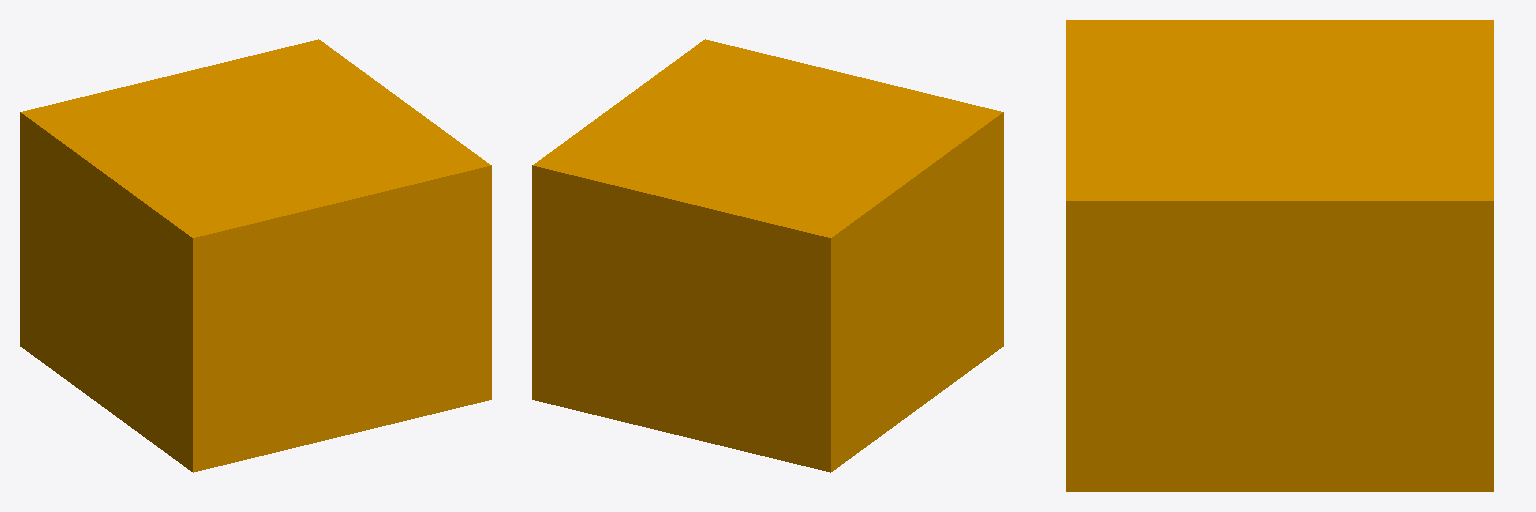
The robot description file, URDF, robot "object":
<?xml version="0.0"?>
	<robot name="object">
		<link name="object">
			<visual>
				<origin xyz="0 0 0"/>
				<geometry>
					<box size="0.4 0.4 0.3"/>
				</geometry>
			</visual>
			<inertial>
				<mass value="4.800"/>
			</inertial>
			<collision>
				<origin xyz="0 0 0"/>
				<geometry>
					<box size="0.4 0.4 0.3"/>
				</geometry>
			</collision>
		</link>

	</robot>

--- What the picture shows (computed from the rendered views, not written in the file) ---
3 views of the same robot in one strip: view 1: azimuth 30°, elevation 25°; view 2: azimuth 150°, elevation 25°; view 3: azimuth 270°, elevation 25° (orthographic).
Robot: object — 1 links, 0 joints (none); root link object; default pose: every joint at zero.
Links seen in each view (by area): view 1: object; view 2: object; view 3: object.
Link boxes in pixels (box(x1,y1,x2,y2)): object: box(20, 39, 491, 472); object: box(532, 39, 1003, 472); object: box(1066, 20, 1493, 491).
Bounding box of the posed robot: 0.4 × 0.4 × 0.3 m (x, y, z).
Geometry: primitives only (box / cylinder / sphere), no mesh files.